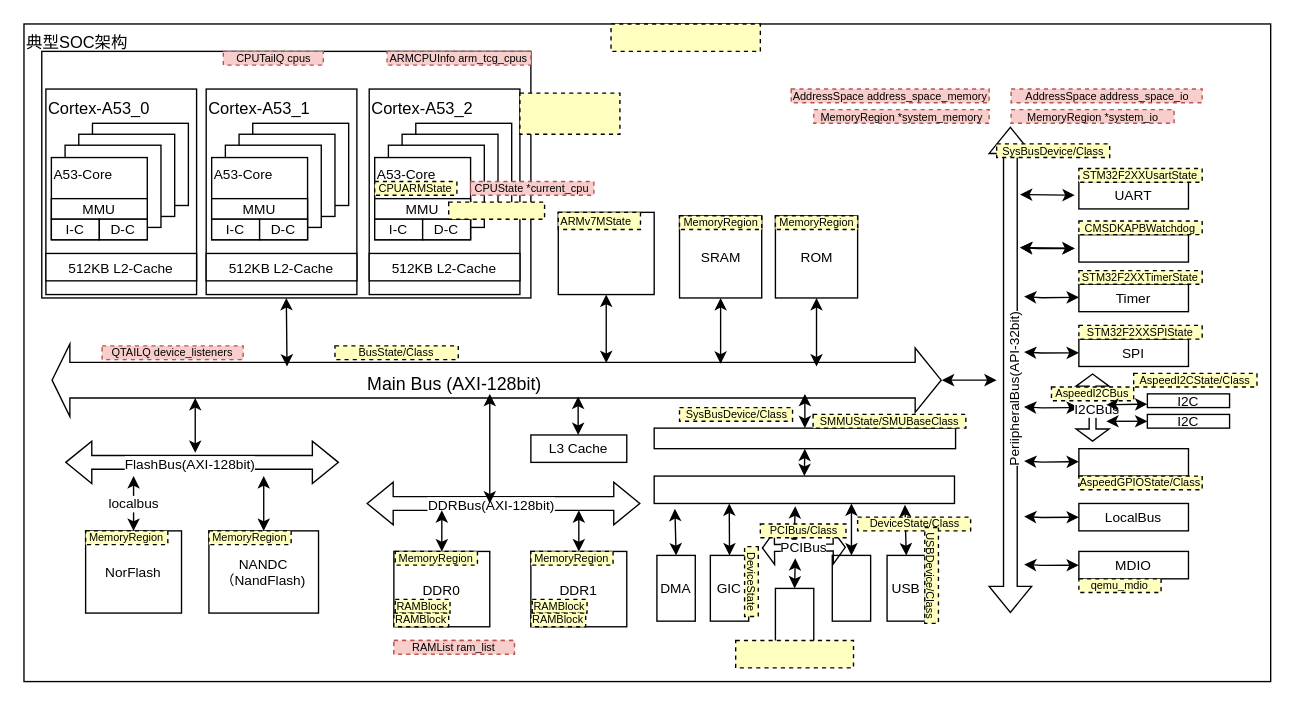
Some shapes in this 1295 by 706 pixel diagram are drawn without their labels. The box of each missing label's shape, as (x1, y1, x2, y2) in pixels:
AxiBus(AXI-128): (653, 475, 954, 503)
Cortex-M4: (557, 211, 654, 295)
CPU Clusters: (40, 50, 531, 298)
CPUAddressSpace: (447, 201, 545, 219)
CPUClass/State ARMCPU/Class AArch64CPUClass: (519, 92, 620, 134)
ETH: (831, 554, 871, 621)
GPIO: (1078, 447, 1188, 476)
IOMMU/SMMU: (653, 427, 956, 449)
MachineState/Class XXXMachineState/Class: (610, 23, 760, 51)
PCIDeviceDevice/Class PCIExpressDevice: (734, 639, 854, 668)
PCIE: (774, 587, 814, 654)
WatchDog: (1078, 233, 1188, 262)
